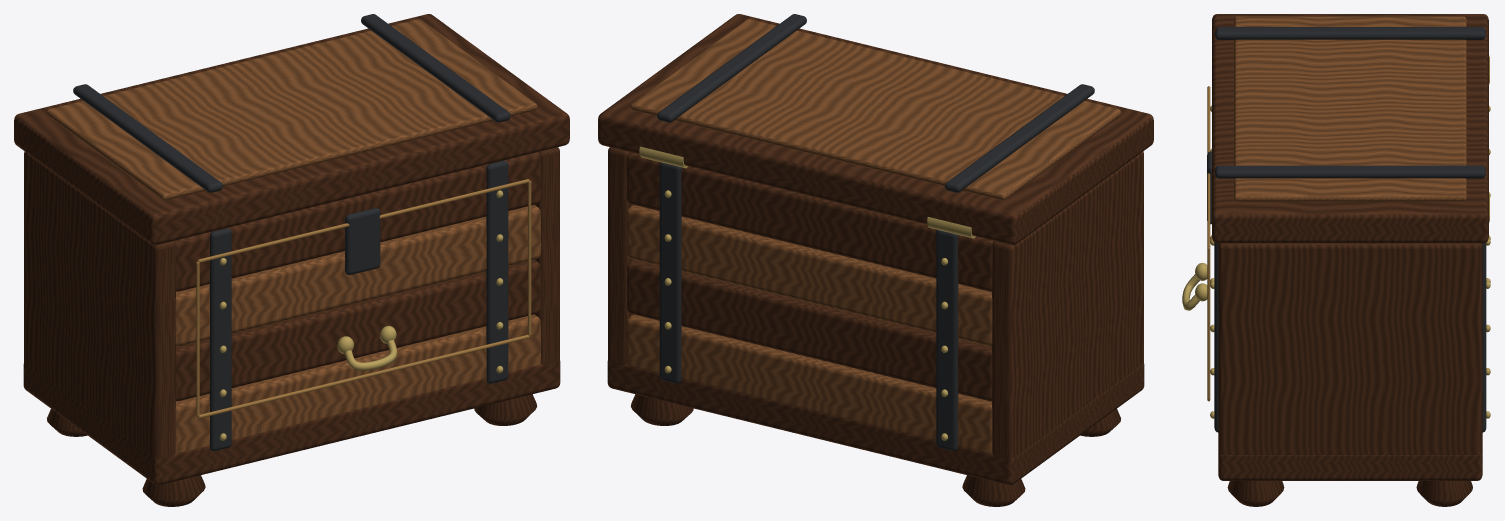
The model's file is articulated-chest.glb.
3 renders of one model, left to right at view 1: azimuth 30°, elevation 25°; view 2: azimuth 150°, elevation 25°; view 3: azimuth 270°, elevation 25°, orthographic.
Visible parts, largest first — view 1: articulated-chest, articulation; view 2: articulated-chest, articulation; view 3: articulated-chest, articulation.
Boxes of the visible parts, bbox=[...] form: articulated-chest: bbox=[23, 147, 560, 506]; articulation: bbox=[14, 14, 569, 245]; articulated-chest: bbox=[607, 147, 1144, 506]; articulation: bbox=[598, 14, 1153, 245]; articulated-chest: bbox=[1182, 86, 1490, 506]; articulation: bbox=[1212, 14, 1489, 243].
Size of the model in its own units: 0.65 by 0.48 by 0.42.
Materials: 6 (3 with a texture image).
